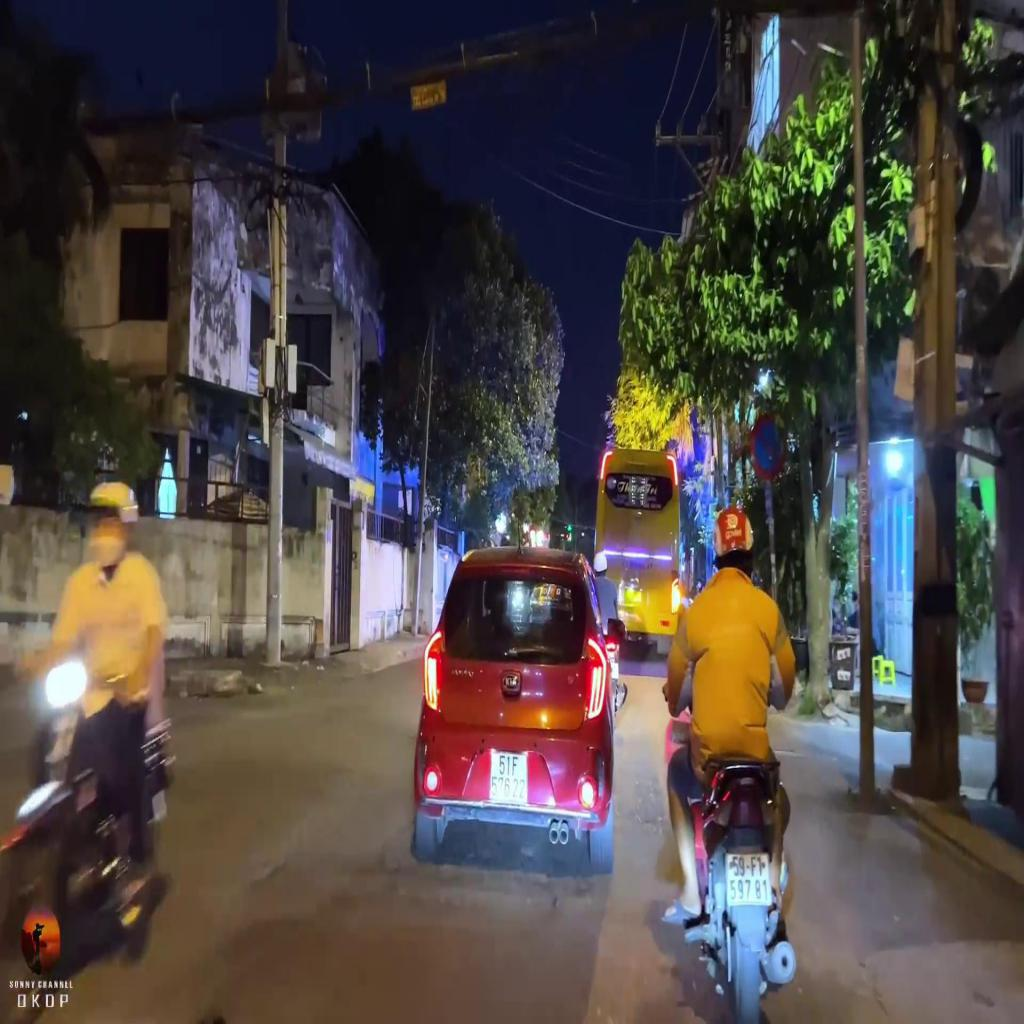cam_do_xe: (748, 411, 786, 479)
